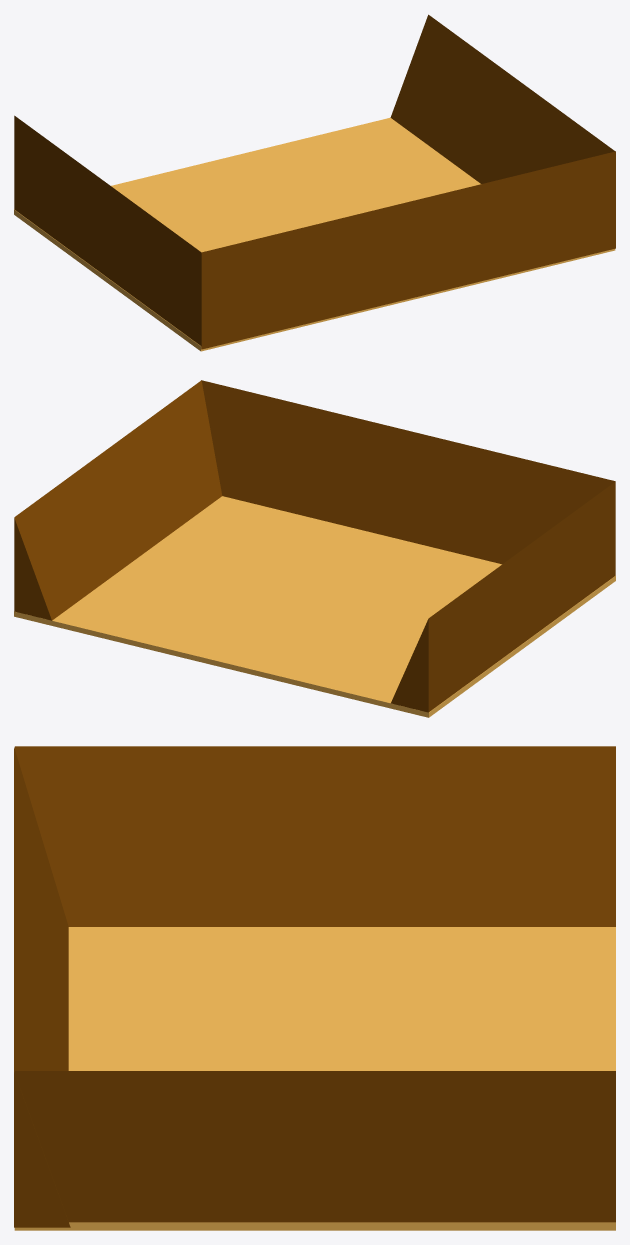
Rendered from arena.glb.
3 renders of one model, top to bottom at view 1: azimuth 30°, elevation 25°; view 2: azimuth 150°, elevation 25°; view 3: azimuth 270°, elevation 25°, orthographic. The views are drawn at different scales.
Visible parts, largest first — view 1: Cube.003, Cube, Cube.001, Cube.002; view 2: Cube, Cube.003, Cube.001, Cube.002; view 3: Cube.002, Cube.001, Cube, Cube.003.
Part boxes in pixels (<box>): Cube.003: <box>201,151,615,349</box>; Cube: <box>14,117,615,351</box>; Cube.001: <box>390,14,615,183</box>; Cube.002: <box>14,115,201,345</box>; Cube: <box>14,496,615,717</box>; Cube.003: <box>201,380,615,564</box>; Cube.001: <box>14,381,222,620</box>; Cube.002: <box>391,482,615,712</box>; Cube.002: <box>15,746,615,926</box>; Cube.001: <box>15,1071,615,1222</box>; Cube: <box>14,927,615,1230</box>; Cube.003: <box>14,747,70,1227</box>.
Bounding box in the file's own units: 24.66 × 5.64 × 19.28.
